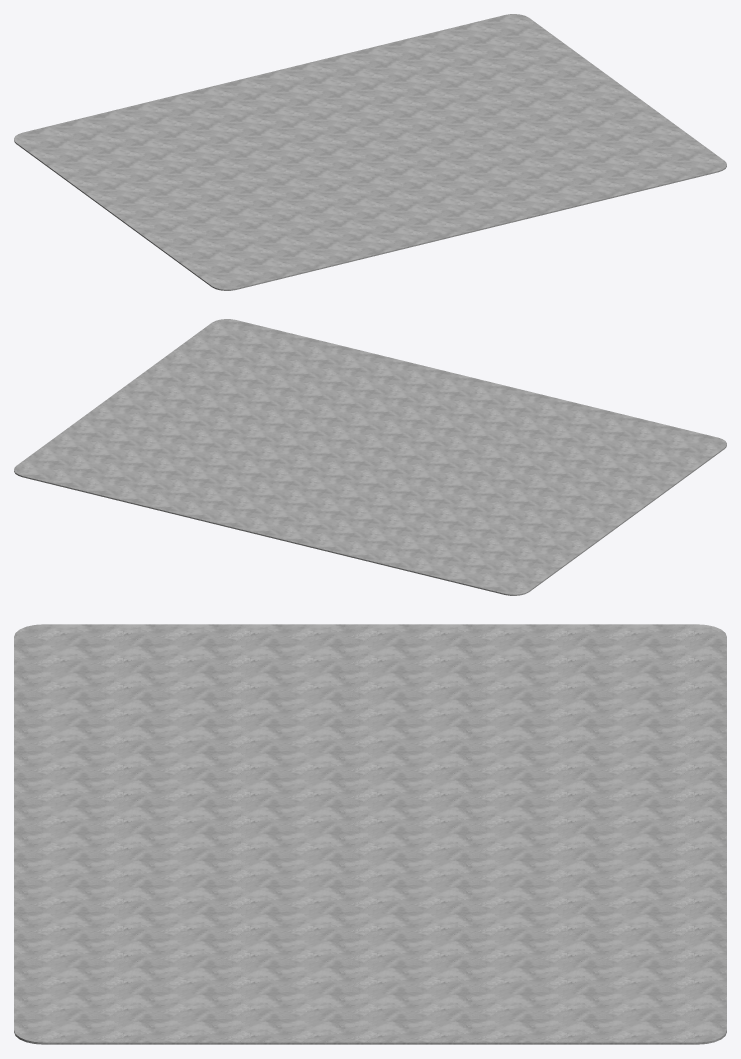
File: Block.fbx
The picture shows the model from 3 angles, top to bottom: view 1: azimuth 30°, elevation 25°; view 2: azimuth 150°, elevation 25°; view 3: azimuth 270°, elevation 25°; orthographic projection. The views are drawn at different scales.
Visible parts, largest first — view 1: Block; view 2: Block; view 3: Block.
Boxes of the visible parts, left/top/right/bottom form: Block: left=14, top=14, right=726, bottom=290; Block: left=14, top=319, right=726, bottom=595; Block: left=14, top=624, right=726, bottom=1044.
Size of what is drawn, in the model's own units: 10728 by 25 by 7729.
Materials: 1 (1 with a texture image).
